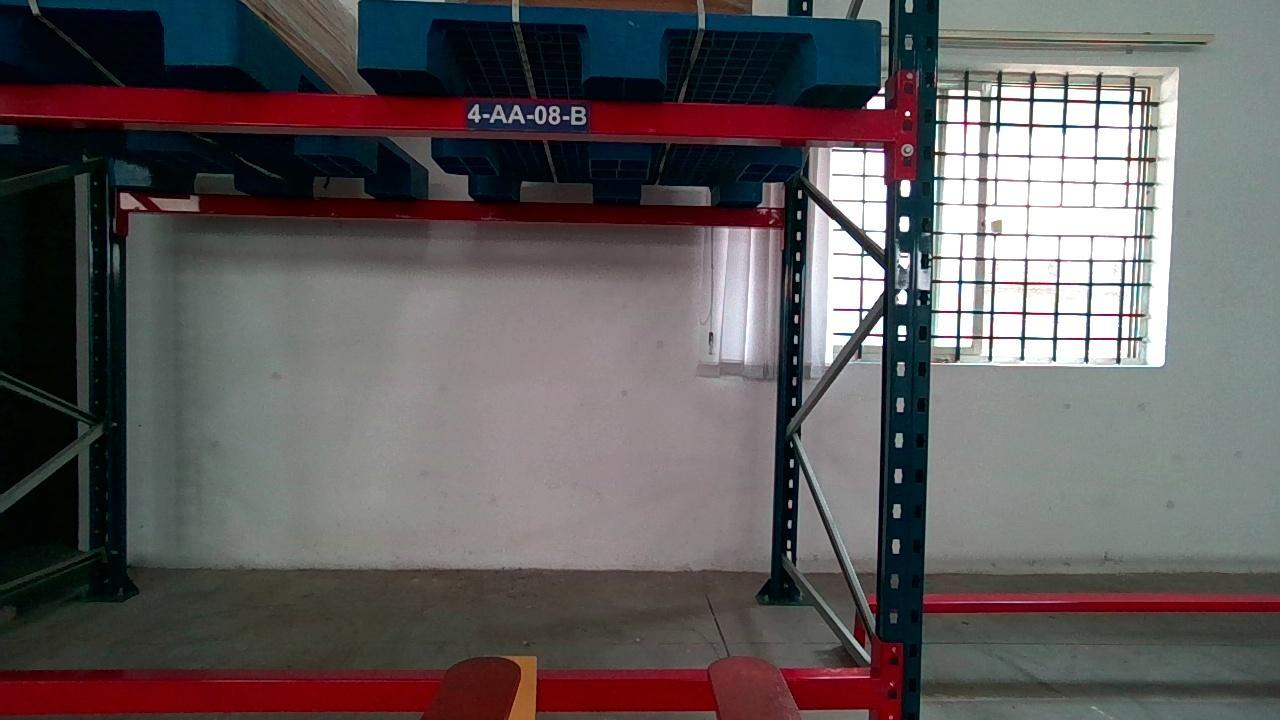h_rack: (1, 81, 893, 143), (1, 676, 876, 711)
small_pallet: (355, 0, 877, 86)
